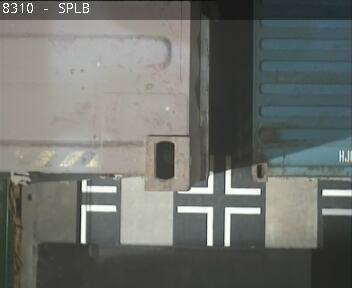groundmarker_1: (177, 205, 261, 247), (177, 153, 261, 195), (80, 179, 117, 244)
